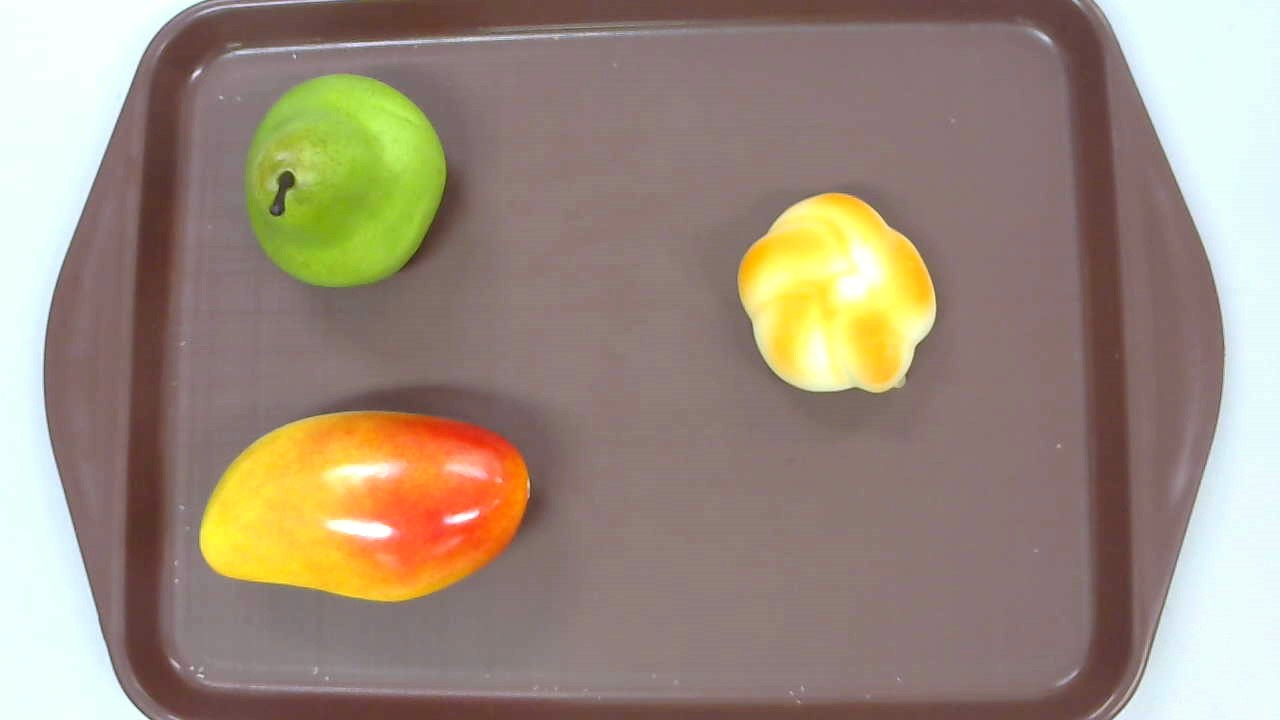green pear: (243, 73, 447, 288)
red mango: (200, 409, 530, 603)
twist bread: (738, 191, 938, 394)
